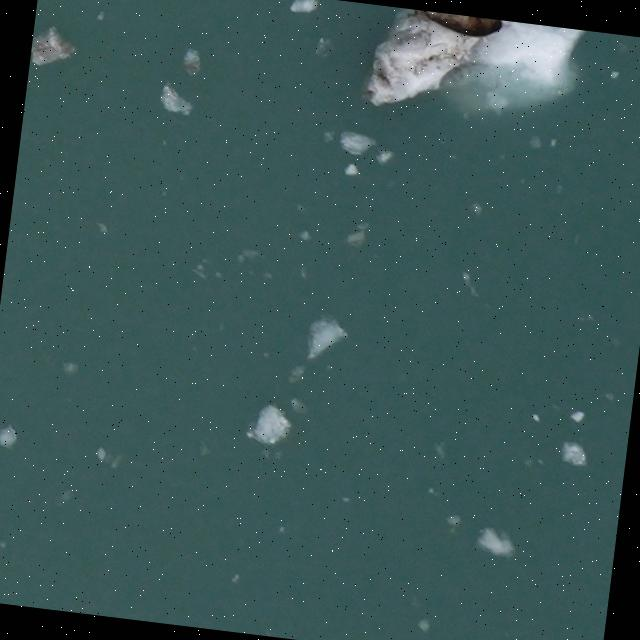seal: (407, 9, 507, 41)
